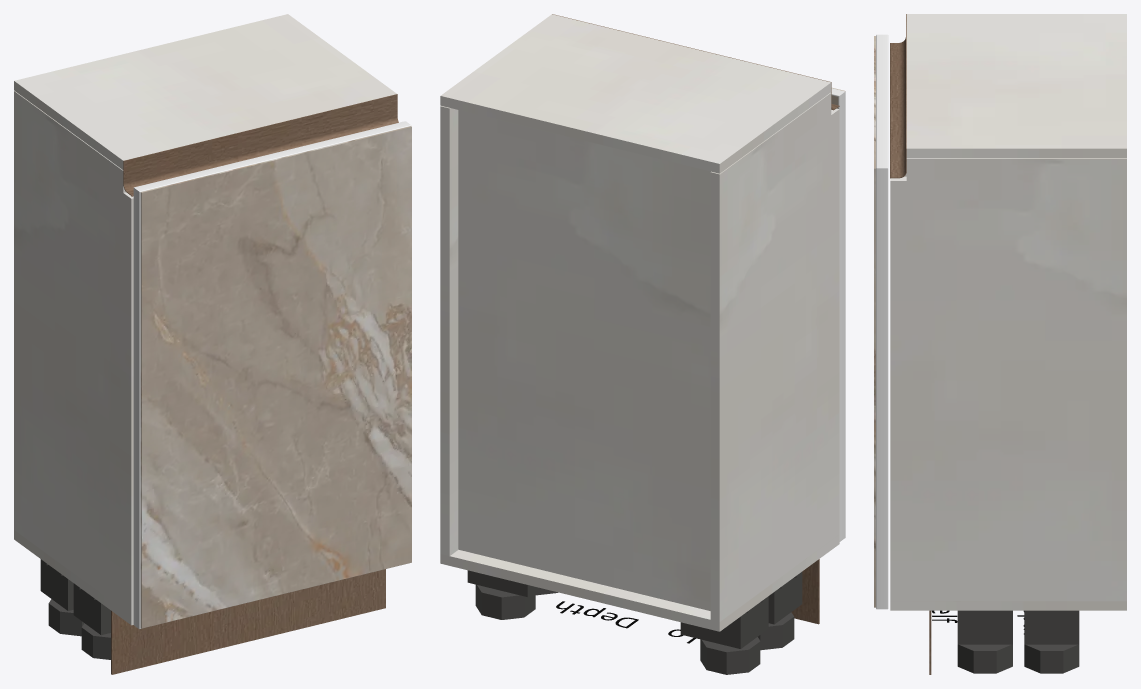
File: BCC1HS_LH_CJ (H720xW450xD336).glb
3 views of the same model, side by side, from view 1: azimuth 30°, elevation 25°; view 2: azimuth 150°, elevation 25°; view 3: azimuth 270°, elevation 25° (orthographic).
Size of what is drawn, in the model's own units: 0.45 by 0.82 by 0.3569.
Materials: 6 (3 with a texture image).
